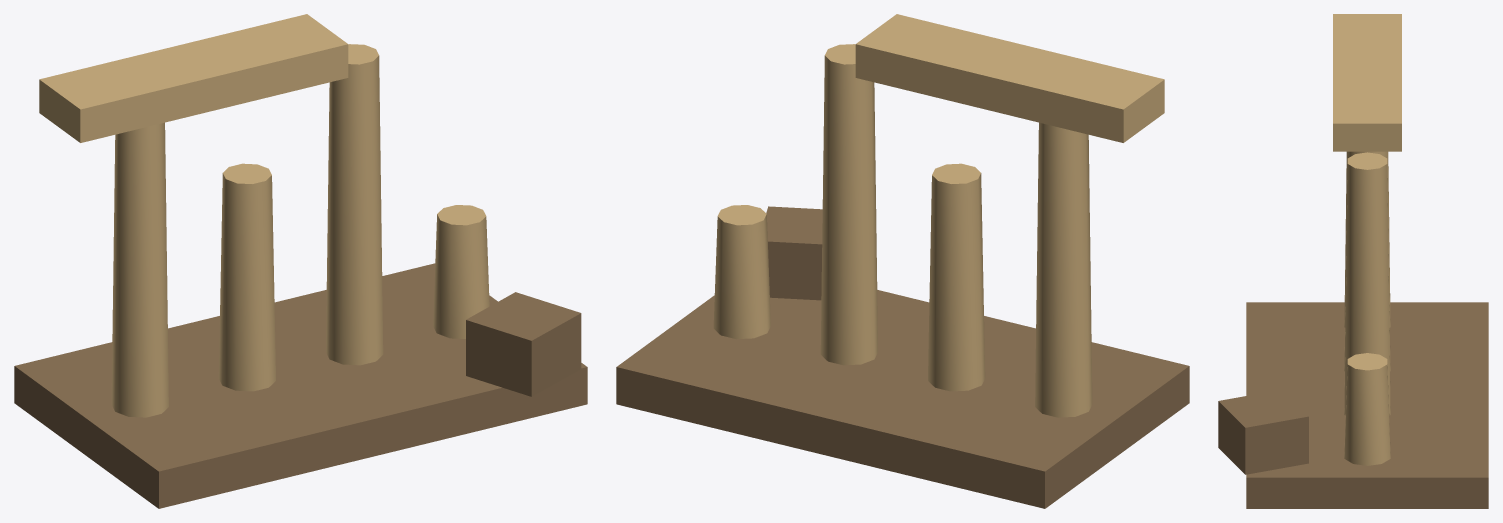
File: ruina.obj
3 renders of one model, left to right at view 1: azimuth 30°, elevation 25°; view 2: azimuth 150°, elevation 25°; view 3: azimuth 270°, elevation 25°, orthographic. The views are drawn at different scales.
Parts seen in each view (by area): view 1: Ruina_Antigua; view 2: Ruina_Antigua; view 3: Ruina_Antigua.
Boxes of the visible parts, left/top/right/bottom form: Ruina_Antigua: left=14, top=14, right=587, bottom=508; Ruina_Antigua: left=616, top=14, right=1189, bottom=508; Ruina_Antigua: left=1218, top=14, right=1488, bottom=508.
Size of the model in its own units: 2.55 by 1.97 by 1.56.
